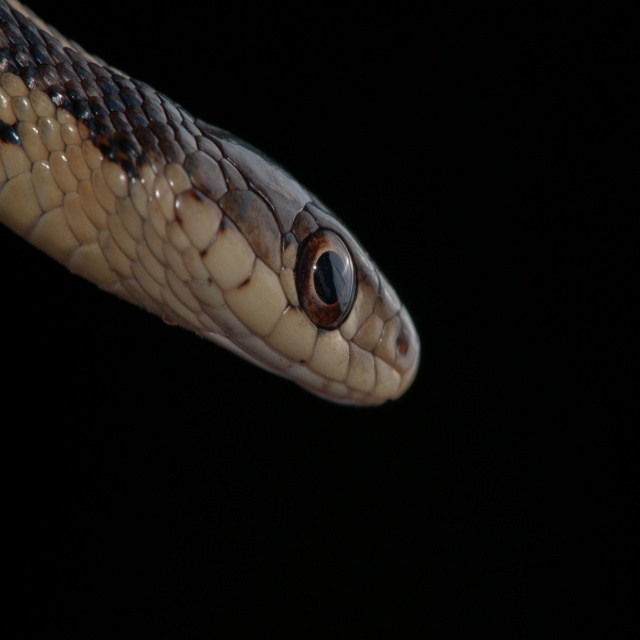Snake: (0, 0, 420, 406)
